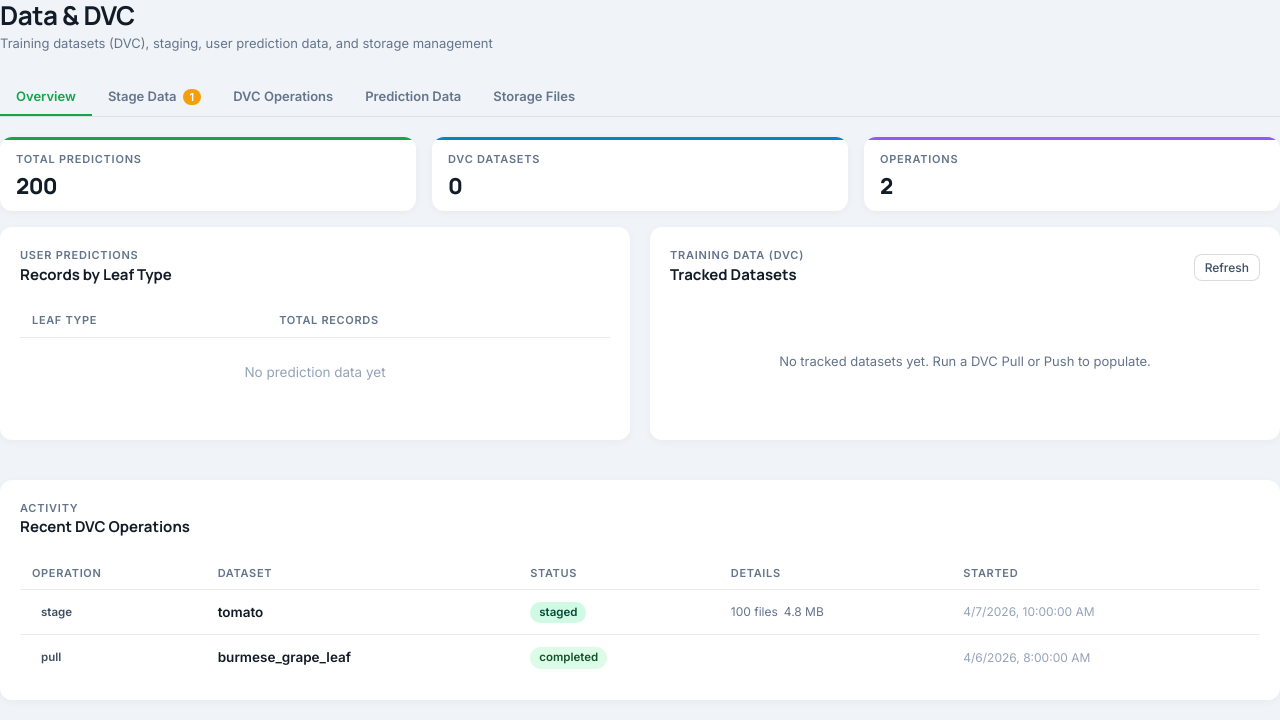
Test: Group 5: Data Management Page — DVC Operations › switches to DVC Operations tab and shows action cards
This screenshot has width=1280, height=720.
Click DVC Operations tab
Click the button "DVC Operations" at (283, 97), box [217,78,349,116]
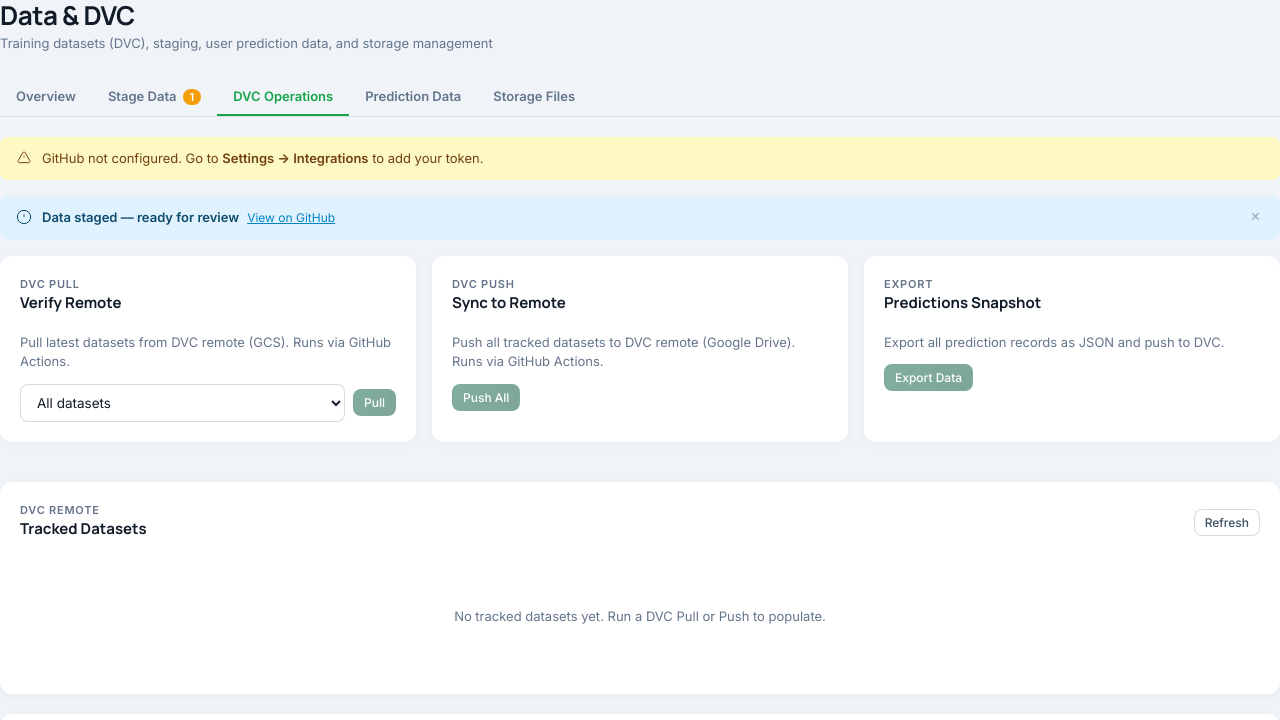
Result: the button "Pull" is shown at [353,389,396,416]
Result: the button "Push All" is shown at [452,384,520,411]
Result: the button "Export Data" is shown at [884,364,973,391]
